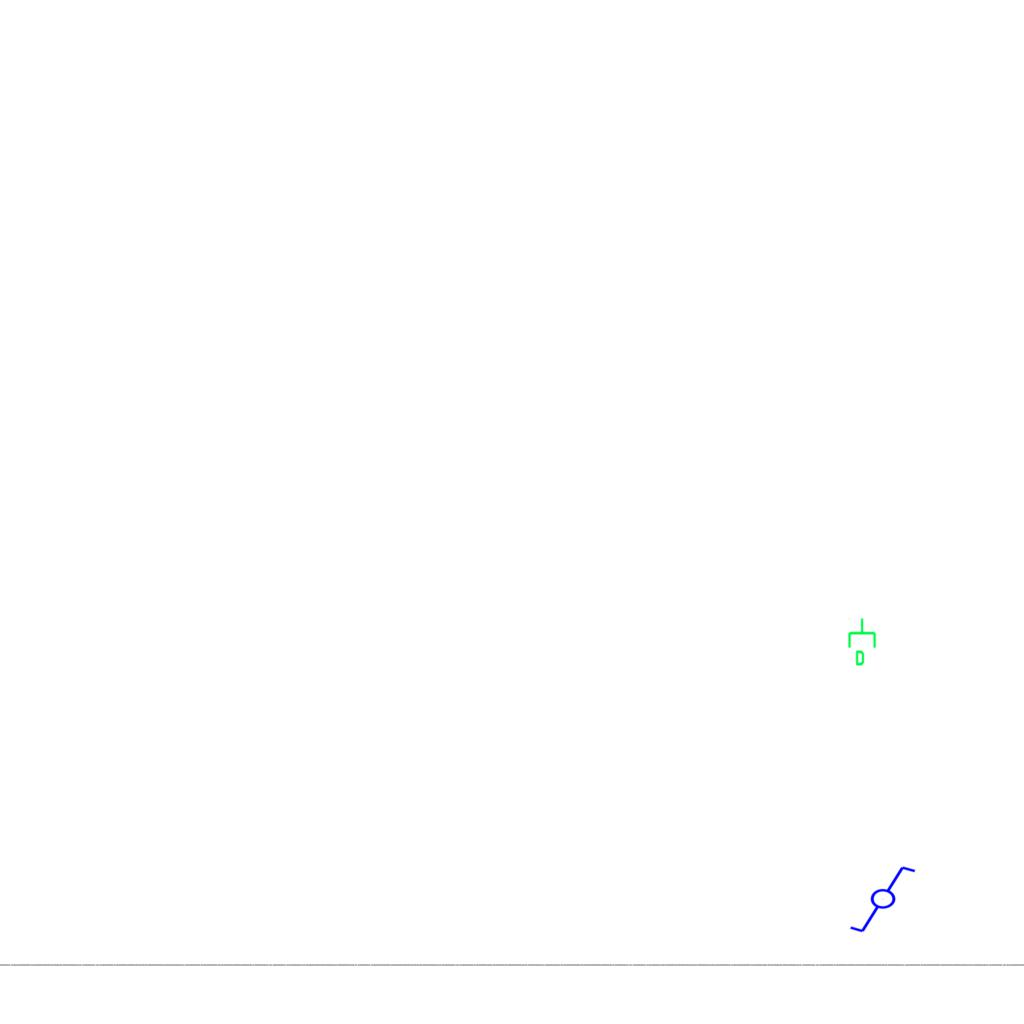Datenanschluss_einfach: (846, 617, 880, 667)
Wechselschalter: (848, 864, 926, 936)
